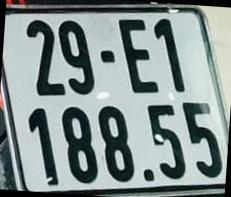-: (100, 48, 116, 64)
.: (143, 170, 156, 182)
1: (154, 16, 187, 95), (27, 109, 59, 189)
2: (25, 20, 64, 97)
5: (184, 101, 222, 177), (151, 104, 183, 179)
8: (98, 102, 135, 183), (61, 106, 98, 183)
9: (60, 21, 97, 95)
E: (118, 16, 159, 97)
